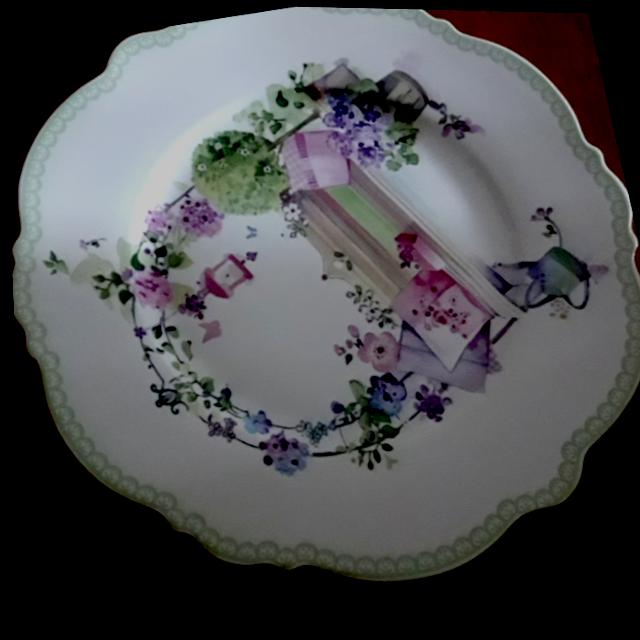Plate: (12, 6, 640, 581)
